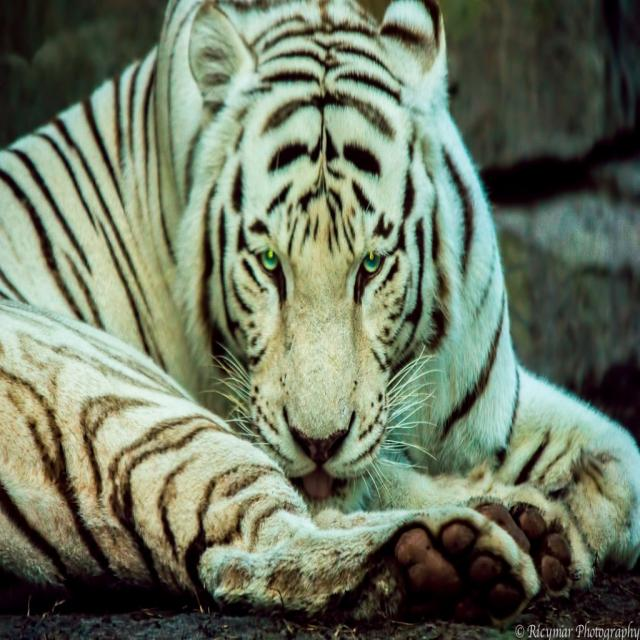Tiger: (0, 0, 640, 625)
